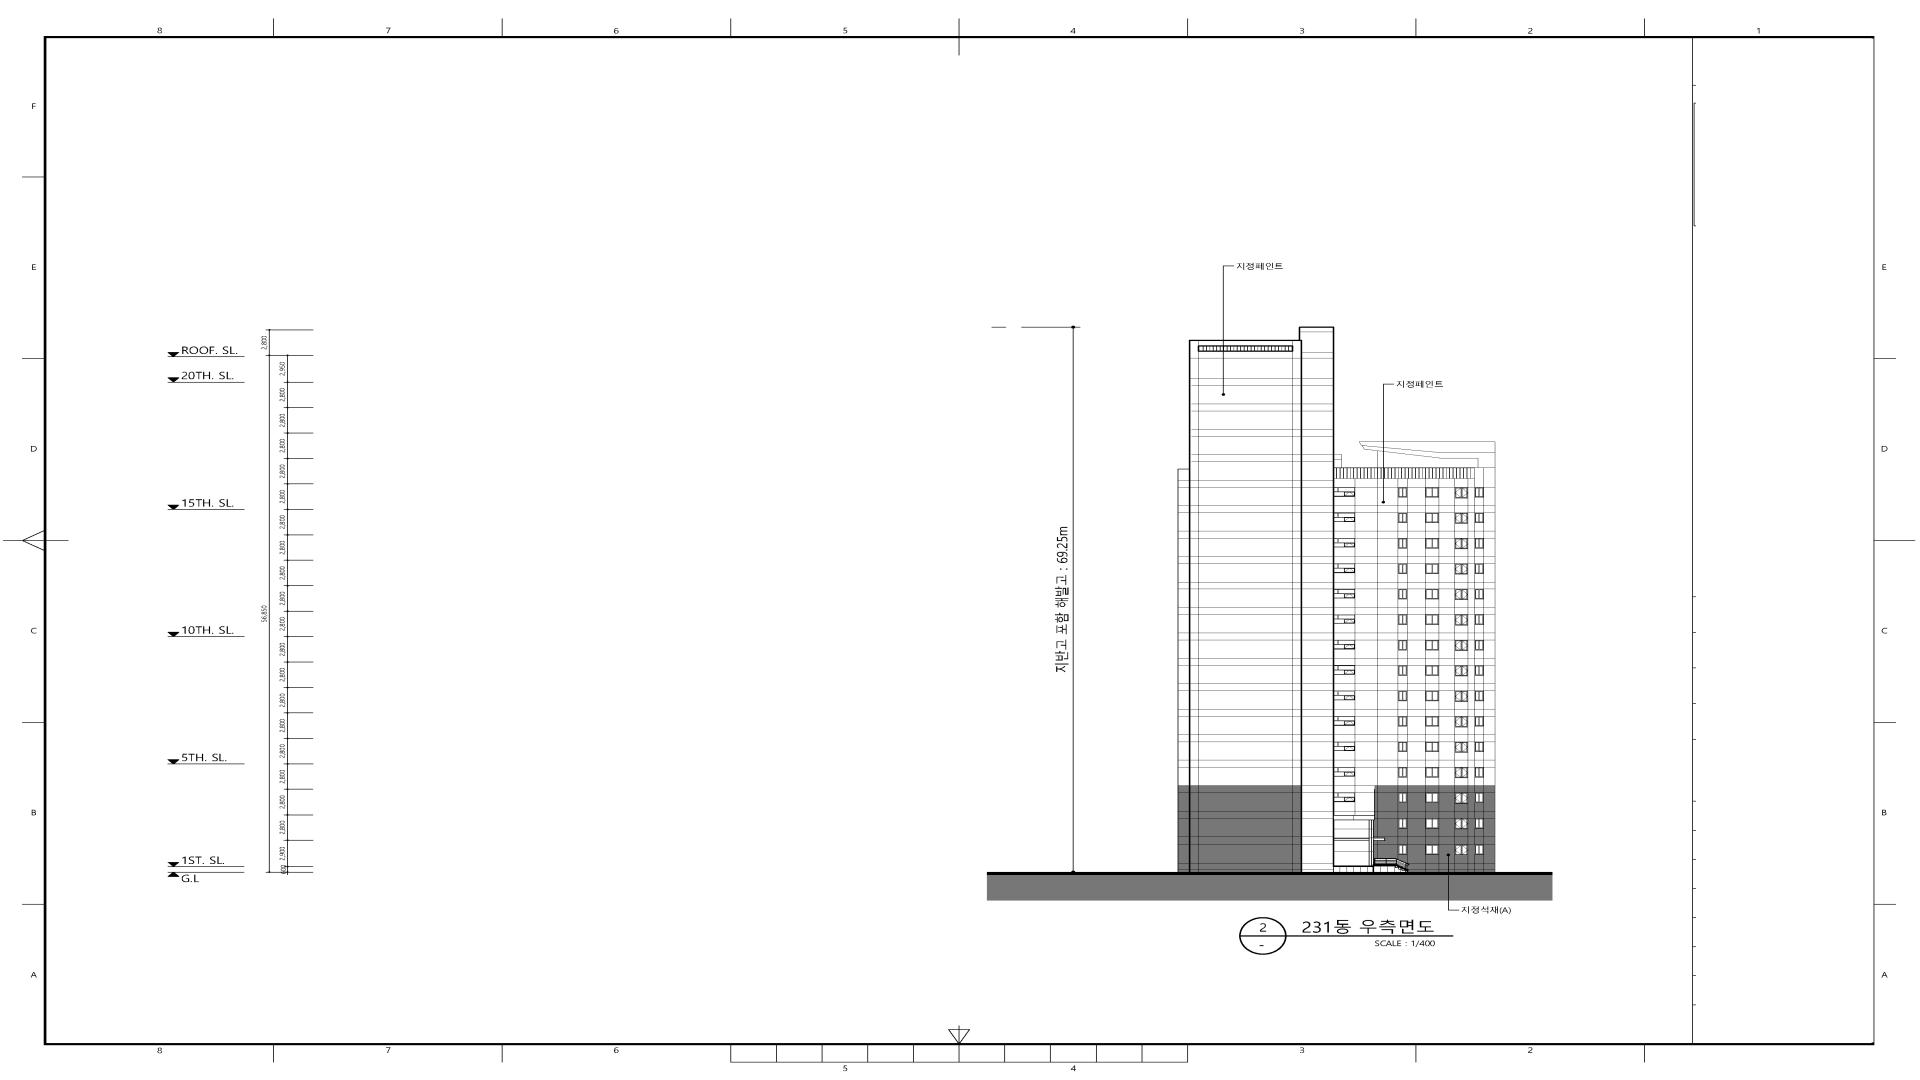wall: (1178, 327, 1495, 872)
window: (1197, 345, 1294, 352), (1335, 487, 1356, 497), (1335, 563, 1356, 574), (1335, 665, 1356, 675), (1335, 741, 1354, 752), (1335, 513, 1356, 522), (1335, 615, 1356, 624), (1335, 640, 1356, 649), (1335, 691, 1356, 700), (1335, 716, 1356, 725), (1335, 767, 1356, 777), (1335, 793, 1356, 802), (1335, 538, 1354, 547), (1335, 589, 1354, 599), (1455, 487, 1468, 498), (1455, 563, 1468, 575), (1455, 640, 1468, 651), (1455, 665, 1468, 676), (1455, 716, 1468, 728), (1455, 741, 1468, 753), (1455, 818, 1468, 829), (1425, 818, 1439, 828), (1425, 793, 1439, 803), (1425, 767, 1439, 778), (1425, 741, 1439, 752), (1425, 716, 1439, 727), (1425, 691, 1439, 702), (1425, 665, 1439, 675), (1425, 640, 1439, 650), (1425, 615, 1439, 625), (1425, 563, 1439, 574), (1425, 538, 1439, 549), (1425, 513, 1439, 524), (1455, 513, 1468, 524), (1455, 538, 1468, 549), (1455, 589, 1468, 600), (1455, 615, 1468, 625), (1455, 691, 1468, 702), (1455, 767, 1468, 778), (1455, 793, 1468, 803), (1455, 845, 1468, 856), (1425, 845, 1439, 855), (1425, 589, 1439, 599), (1425, 488, 1439, 497), (1474, 513, 1484, 524), (1474, 538, 1484, 549), (1474, 615, 1484, 625), (1474, 640, 1484, 650), (1474, 665, 1484, 675), (1474, 691, 1484, 702), (1474, 716, 1484, 727), (1474, 741, 1484, 752), (1474, 767, 1484, 778), (1474, 793, 1484, 803), (1474, 844, 1484, 855), (1398, 844, 1407, 855), (1398, 793, 1407, 803), (1398, 767, 1407, 778), (1398, 716, 1407, 727), (1398, 691, 1407, 702), (1398, 665, 1407, 675), (1398, 640, 1407, 650), (1398, 615, 1407, 625), (1398, 538, 1407, 549), (1474, 564, 1484, 574), (1474, 589, 1484, 599), (1474, 819, 1484, 828), (1398, 819, 1407, 828), (1398, 742, 1407, 752), (1398, 589, 1407, 599), (1398, 564, 1407, 574), (1398, 513, 1407, 522), (1398, 488, 1407, 497), (1474, 488, 1484, 497)
